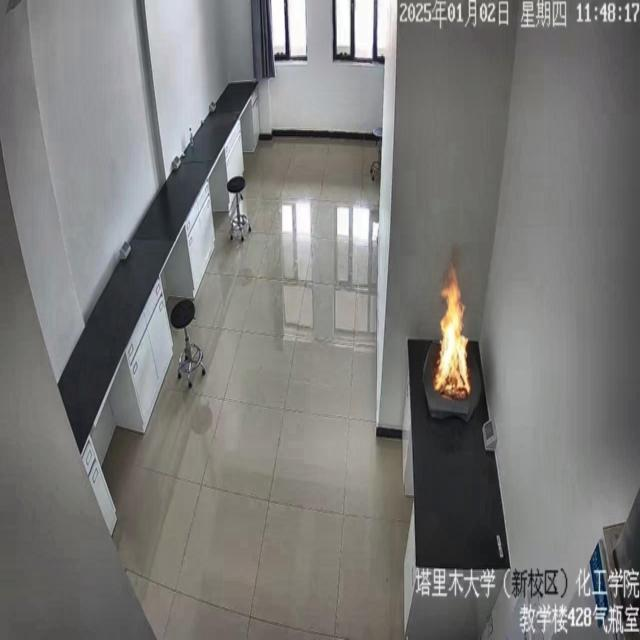fire: (415, 228, 504, 422)
